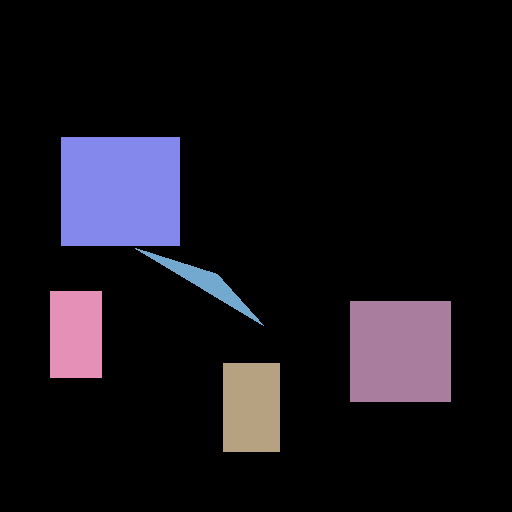rectangle: (223, 363, 279, 451), (50, 291, 101, 377)
square: (61, 137, 179, 245), (350, 301, 450, 401)
triangle: (135, 248, 263, 325)
